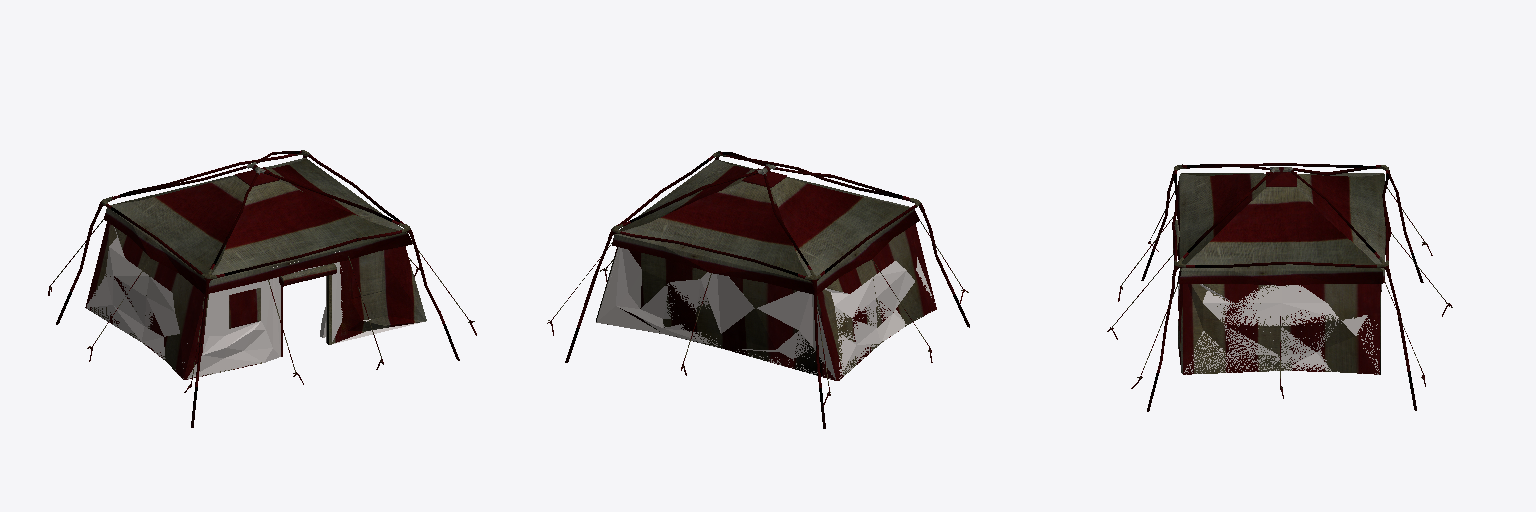
The picture shows the model from 3 angles: view 1: azimuth 30°, elevation 25°; view 2: azimuth 150°, elevation 25°; view 3: azimuth 270°, elevation 25°; orthographic projection.
Visible parts, largest first — view 1: tent_exterior, tent_interior; view 2: tent_exterior, tent_interior; view 3: tent_exterior, tent_interior.
Boxes of the visible parts, <box> form: tent_exterior: <box>48,150,476,427</box>; tent_interior: <box>86,227,421,379</box>; tent_exterior: <box>547,151,969,428</box>; tent_interior: <box>596,247,934,379</box>; tent_exterior: <box>1107,163,1452,411</box>; tent_interior: <box>1178,284,1381,374</box>.
Bounding box in the file's own units: 9.32 × 4.76 × 8.36.
2 materials, 1 textured.